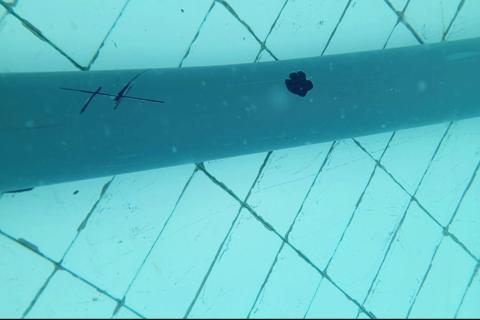kebocoran: (285, 67, 314, 99)
keretakan: (61, 71, 164, 114)
